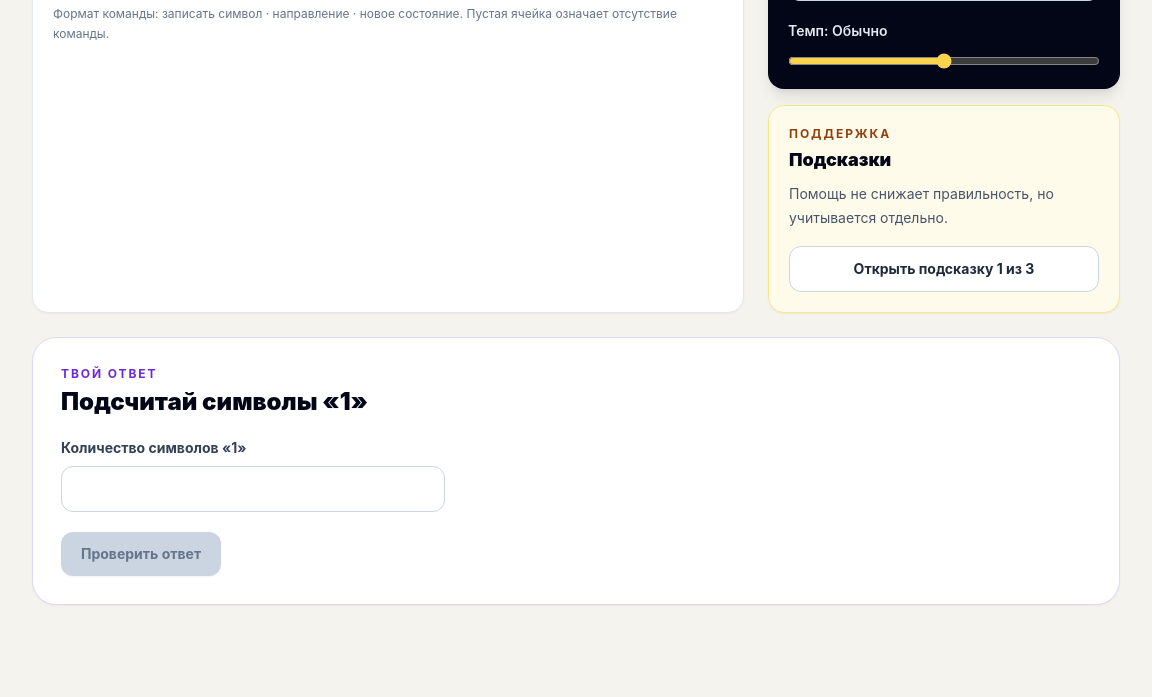
Test case: экран учебной задачи › принимает ответ count в прогнозе нескольких шагов
(page scrolled)
Type "2" into the number field named "Количество символов 1".
click(253, 488); type("2")  # box [61,466,445,512]
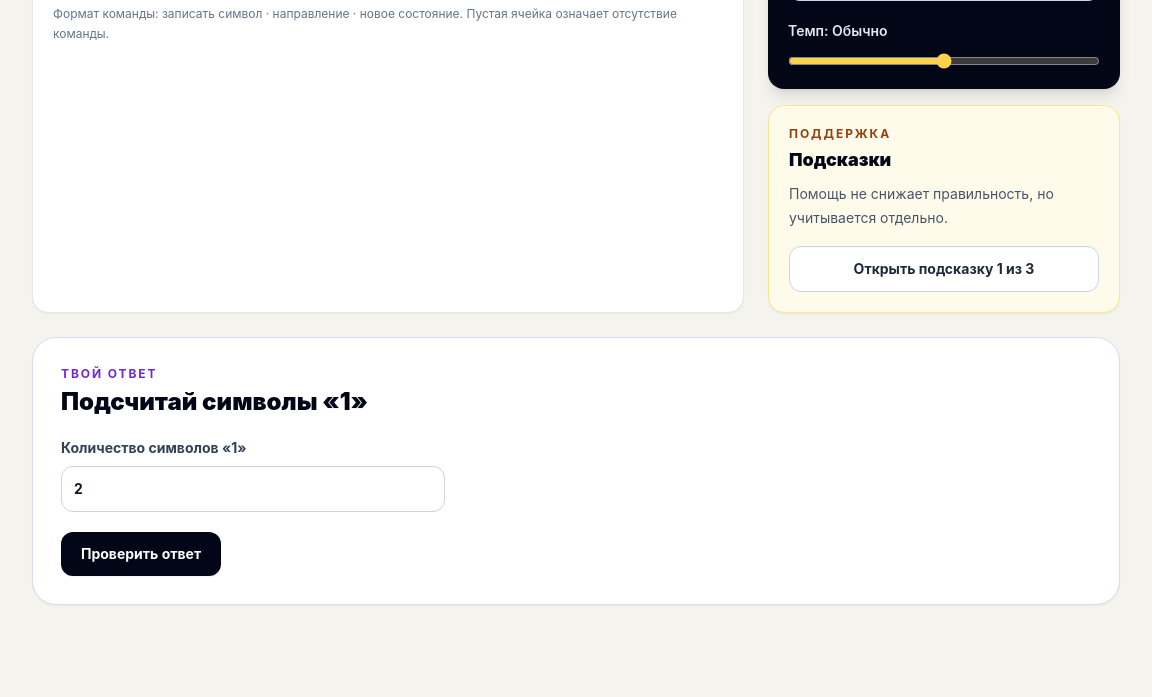
Click the button "Проверить ответ".
click(141, 554)  # box [61,532,221,576]
(page scrolled)
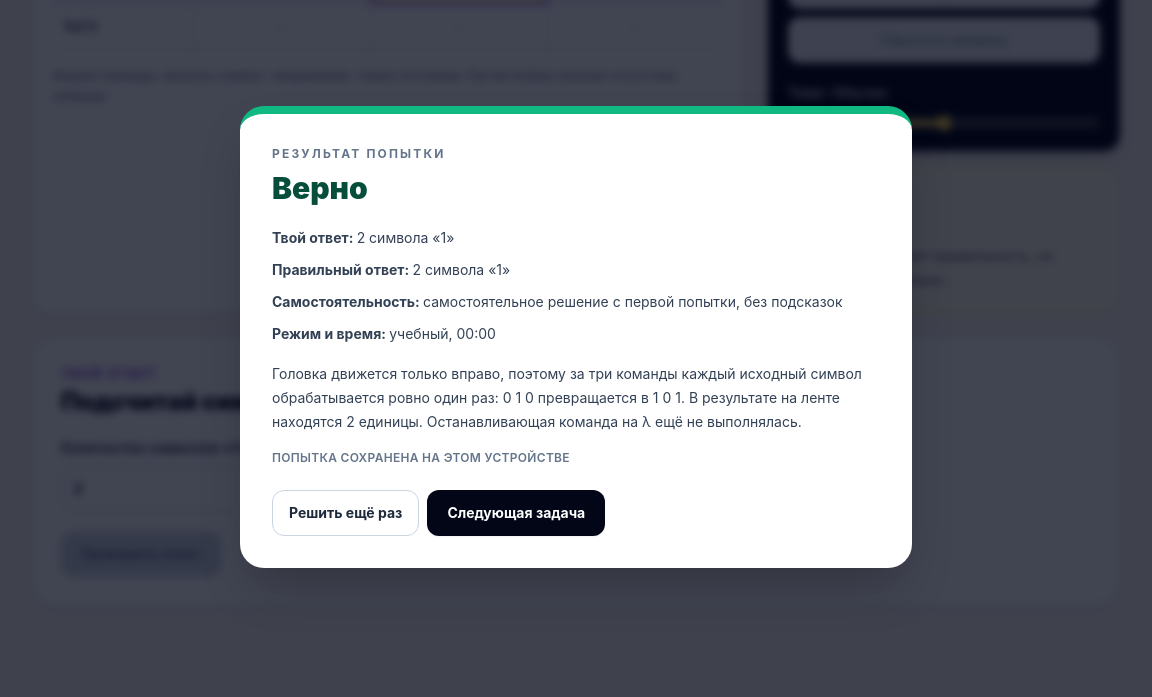
Now the message shows "Верно", box [272,170,368,206]
Now the message shows "2 символа «1»", box [357,229,454,246]
